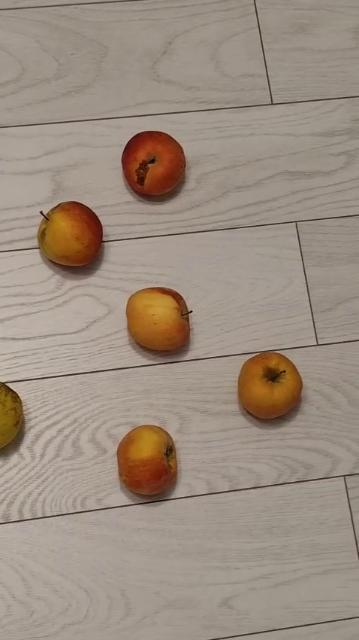apple_green: (0, 380, 24, 453)
apple_red: (115, 423, 178, 495), (237, 352, 303, 419), (37, 200, 103, 266), (121, 131, 186, 197), (125, 286, 190, 351)
